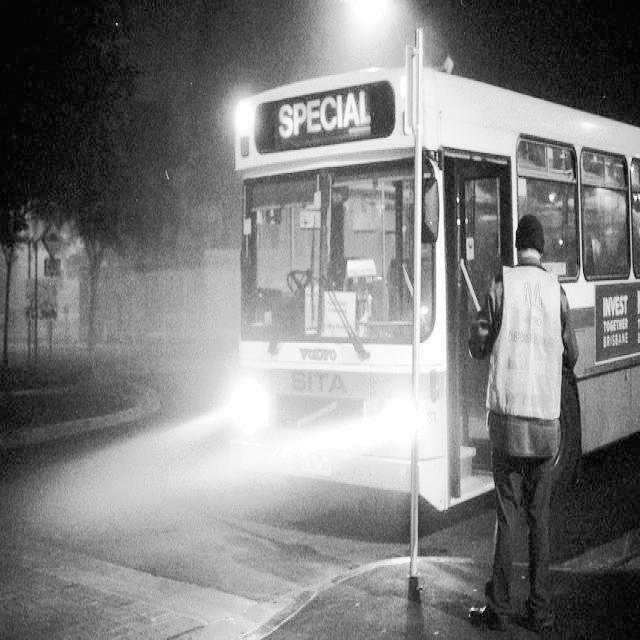Bus: (219, 69, 640, 538)
